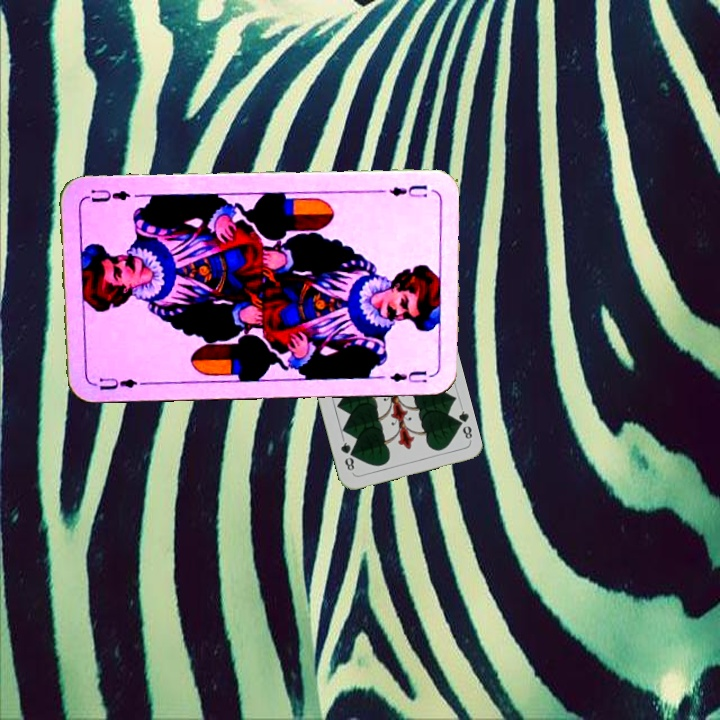EU: (88, 374, 140, 393), (385, 181, 430, 200)
G8: (451, 403, 475, 443)
